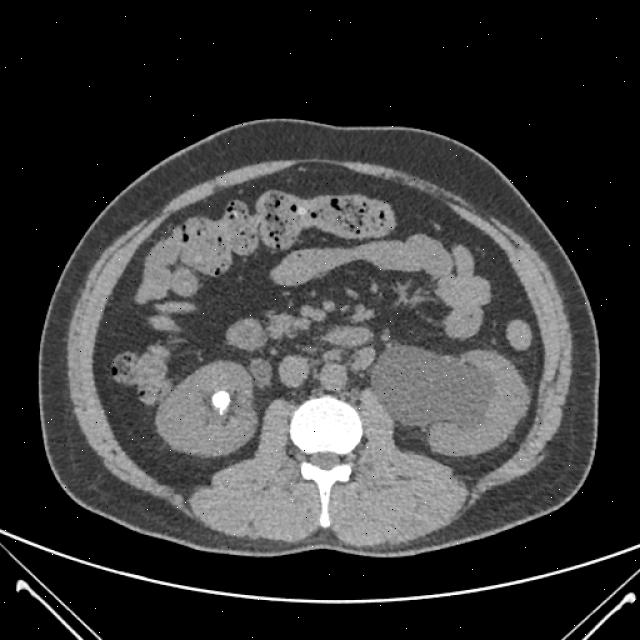kidneystone: (211, 390, 231, 414)
